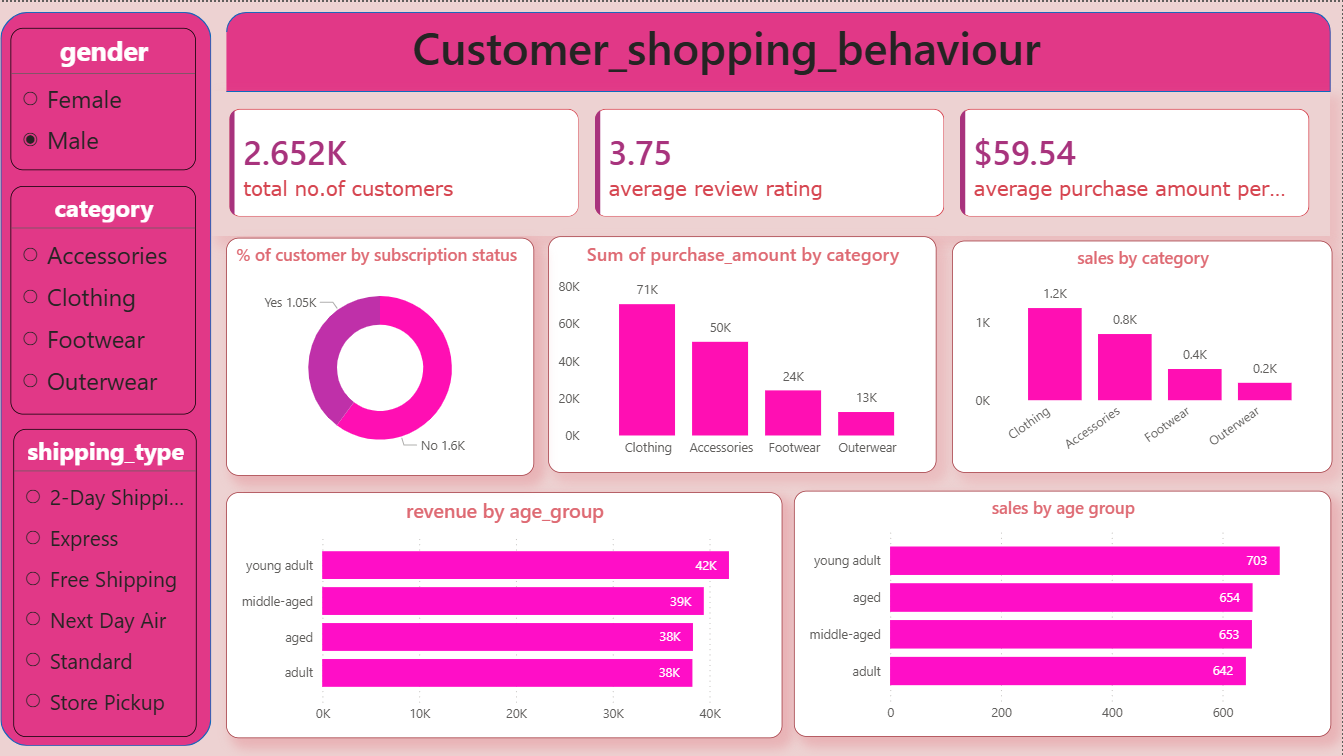

The page's visual inventory and layout, read from the dashboard file:
{"tool":"powerbi","page":{"name":"Page 1","canvas":[1280,720],"ordinal":0},"visuals":[{"type":"shape","box":[216.4,9.1,1052.8,76.2],"z":0},{"type":"cardVisual","fields":{"Data":["new measures.total no.of customers","new measures.average review rating","new measures.average purchase amount per order"]},"box":[202.7,85.6,1065.8,137.6],"z":1000},{"type":"barChart","title":"revenue  by age_group","fields":{"Category":["customer_shopping_behavior mytable.age_group"],"Y":["Sum(customer_shopping_behavior mytable.purchase_amount)"]},"box":[215.8,466.9,530.1,234.4],"z":2000},{"type":"textbox","box":[388.7,9.3,835.1,76.3],"z":3000},{"type":"shape","box":[1.9,9.3,200.9,699.4],"z":4000},{"type":"listSlicer","fields":{"Values":["customer_shopping_behavior mytable.gender"]},"box":[11.2,24.2,176.7,135.8],"z":5000},{"type":"listSlicer","fields":{"Values":["customer_shopping_behavior mytable.category"]},"box":[11.2,174.8,176.7,217.6],"z":6000},{"type":"clusteredColumnChart","fields":{"Category":["customer_shopping_behavior mytable.category"],"Y":["Sum(customer_shopping_behavior mytable.purchase_amount)"]},"box":[522.7,223.2,370.1,225.1],"z":7000},{"type":"clusteredColumnChart","title":"sales by category","fields":{"Category":["customer_shopping_behavior mytable.category"],"Y":["new measures.total no.of customers"]},"box":[907.7,226.9,362.7,221.3],"z":8000},{"type":"barChart","title":"sales by age group","fields":{"Category":["customer_shopping_behavior mytable.age_group"],"Y":["new measures.total no.of customers"]},"box":[757.2,466.2,511.9,234.6],"z":9000},{"type":"listSlicer","fields":{"Values":["customer_shopping_behavior mytable.shipping_type"]},"box":[13,407.3,174.8,293.9],"z":10000},{"type":"donutChart","title":"% of customer by subscription status","fields":{"Category":["customer_shopping_behavior mytable.subscription_status"],"Y":["CountNonNull(customer_shopping_behavior mytable.customer_id)"]},"box":[215.8,225.1,293.9,226.9],"z":11000}]}

Visuals, with their boxes in screenshot pixels (x1, y1, x2, y2), scaled from the page's 1280x720 canvas onto the 1343x756 screenshot:
shape: 227,10,1332,90
cardVisual - new measures.total no.of customers x new measures.average review rating: 213,90,1331,234
"revenue  by age_group" barChart: 226,490,783,736
textbox: 408,10,1284,90
shape: 2,10,213,744
listSlicer - customer_shopping_behavior mytable.gender: 12,25,197,168
listSlicer - customer_shopping_behavior mytable.category: 12,184,197,412
clusteredColumnChart - customer_shopping_behavior mytable.category x Sum(customer_shopping_behavior mytable.purchase_amount): 548,234,937,471
"sales by category" clusteredColumnChart: 952,238,1333,471
"sales by age group" barChart: 794,490,1332,736
listSlicer - customer_shopping_behavior mytable.shipping_type: 14,428,197,736
"% of customer by subscription status" donutChart: 226,236,535,475
